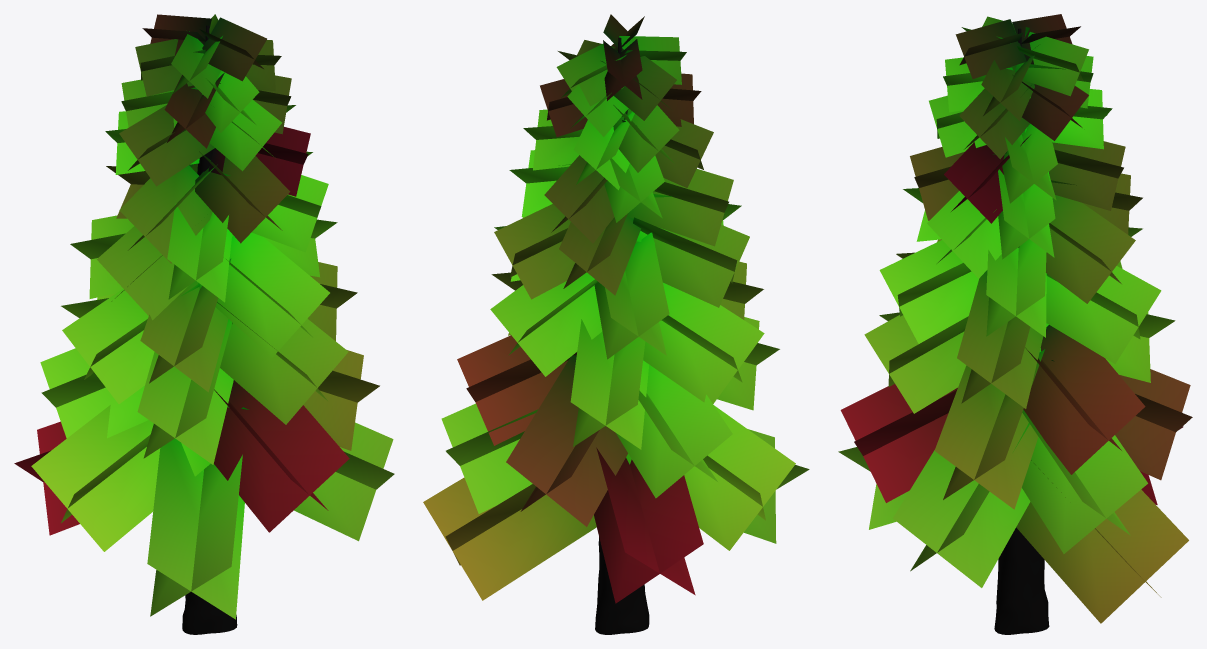
Rendered from Tall_Pine_1.fbx.
The picture shows the model from 3 angles, left to right: view 1: azimuth 30°, elevation 25°; view 2: azimuth 150°, elevation 25°; view 3: azimuth 270°, elevation 25°; orthographic projection. The views are drawn at different scales.
Parts seen in each view (by area): view 1: Tall_Pine_1; view 2: Tall_Pine_1; view 3: Tall_Pine_1.
Part boxes in pixels (<box>): Tall_Pine_1: <box>14,14,394,634</box>; Tall_Pine_1: <box>423,14,809,634</box>; Tall_Pine_1: <box>838,14,1192,634</box>.
Size of the model in its own units: 2085 by 3774 by 2026.
